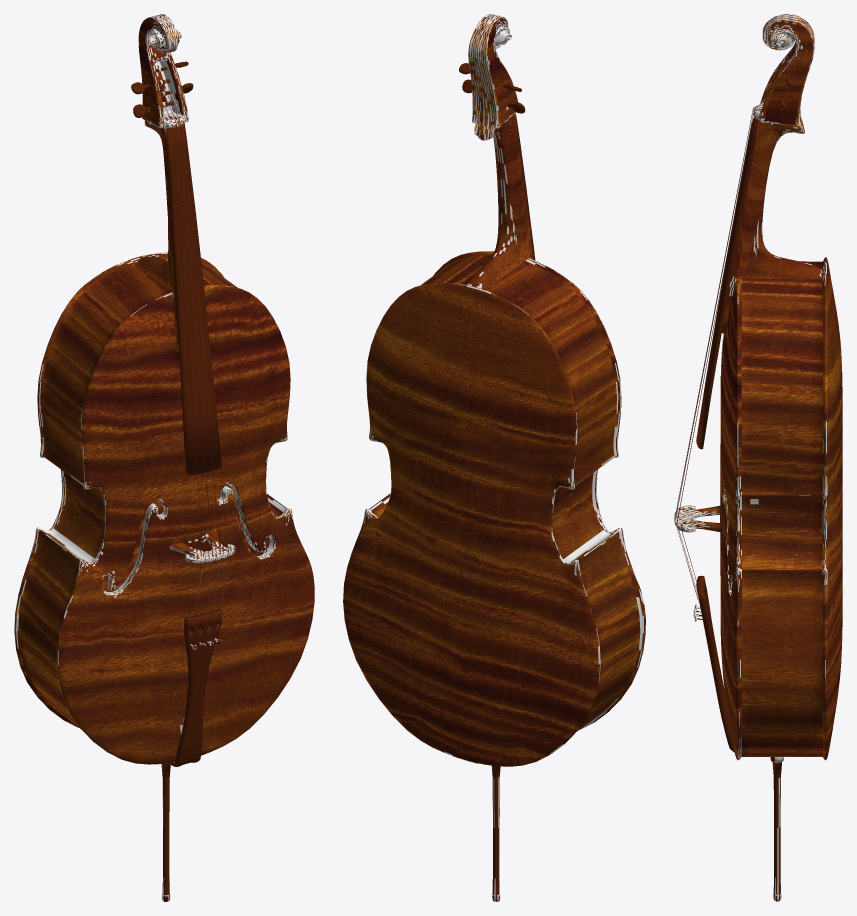
The model's file is cello2.glb.
3 renders of one model, left to right at view 1: azimuth 30°, elevation 25°; view 2: azimuth 150°, elevation 25°; view 3: azimuth 270°, elevation 25°, orthographic.
Visible parts, largest first — view 1: cello_black_cello_black; view 2: cello_black_cello_black; view 3: cello_black_cello_black.
Boxes of the visible parts, x1=… form: cello_black_cello_black: x1=14, y1=14, x2=314, y2=901; cello_black_cello_black: x1=343, y1=14, x2=645, y2=901; cello_black_cello_black: x1=674, y1=14, x2=842, y2=901.
Bounding box in the file's own units: 1.41 × 4.62 × 0.7972.
Materials: 5 (2 with a texture image).
